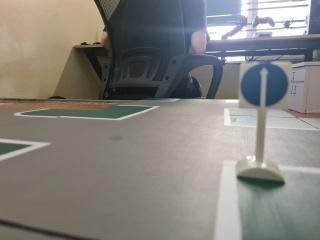straight: (236, 61, 293, 111)
